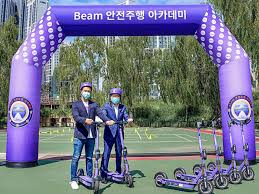kick_board: (153, 118, 212, 194)
kick_body: (165, 179, 194, 188)
kick_neck: (211, 132, 223, 167), (197, 132, 206, 173), (240, 131, 249, 164)
kick_wheel: (200, 180, 212, 194), (216, 176, 228, 189), (243, 168, 255, 181), (155, 171, 165, 186), (229, 171, 241, 183), (173, 167, 184, 180), (92, 181, 99, 192), (126, 172, 132, 184)
